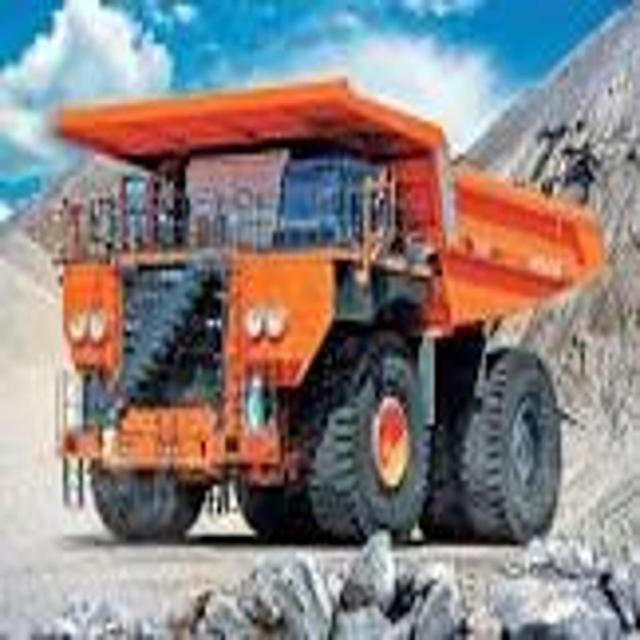dump_truck: (51, 68, 607, 558)
